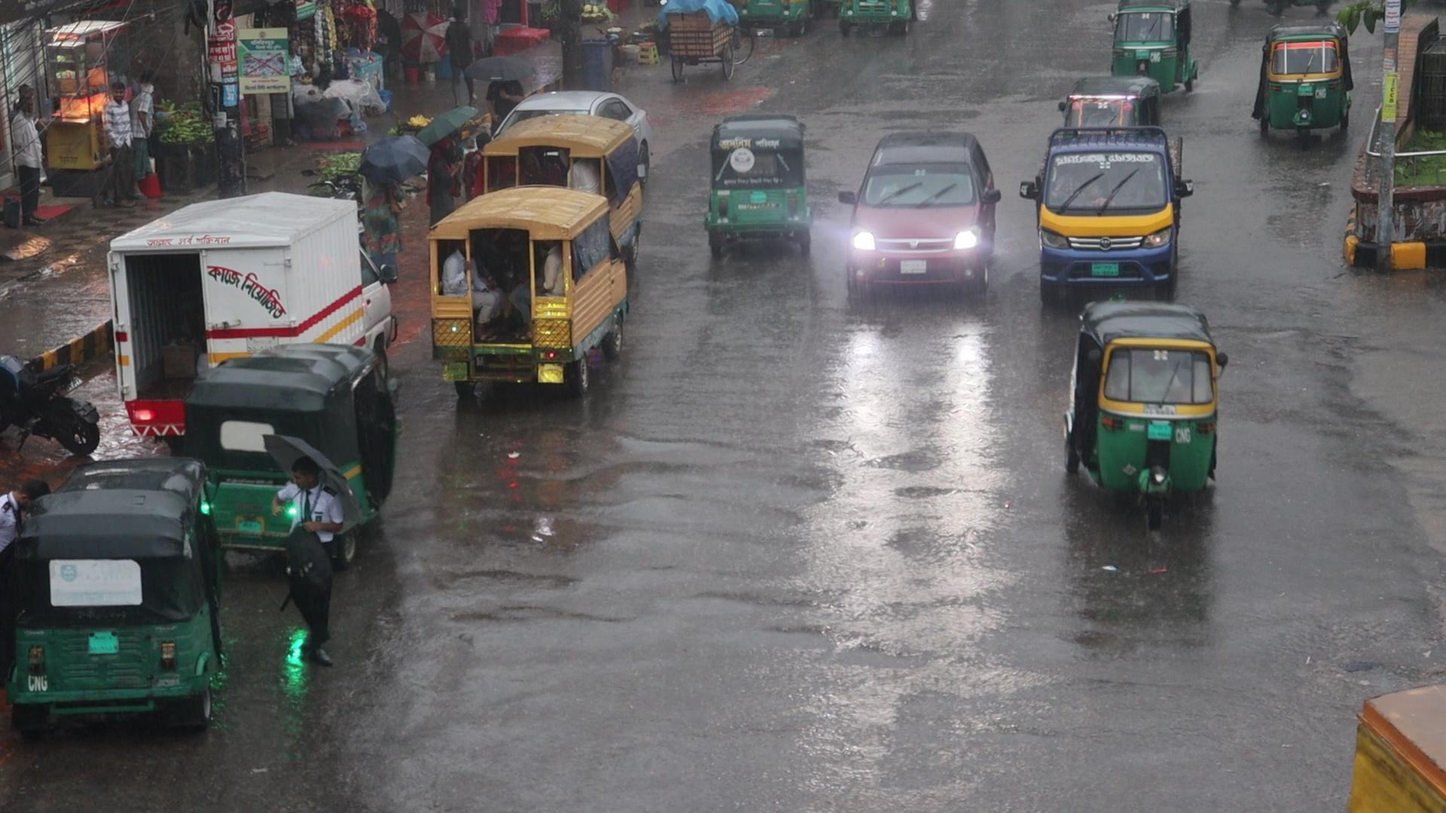Car: (839, 127, 999, 298)
Truck: (425, 185, 628, 393), (1021, 123, 1190, 295)
